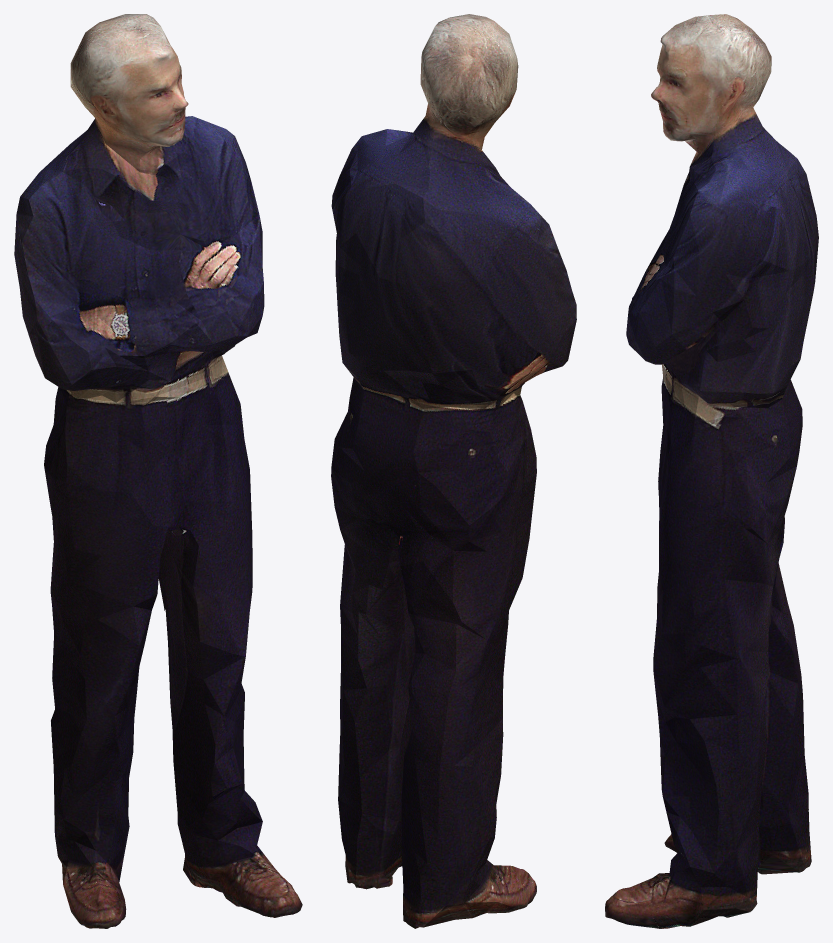
Rendered from Person_18.obj.
3 views of the same model, side by side, from view 1: azimuth 30°, elevation 25°; view 2: azimuth 150°, elevation 25°; view 3: azimuth 270°, elevation 25° (orthographic). The views are drawn at different scales.
Parts seen in each view (by area): view 1: Person_18; view 2: Person_18; view 3: Person_18.
Boxes of the visible parts, x1,y1,x2,y2 form: Person_18: (14, 14, 302, 928); Person_18: (331, 14, 576, 928); Person_18: (605, 14, 818, 928).
Size of the model in its own units: 0.4921 by 1.81 by 0.4102.
Materials: 1 (1 with a texture image).
